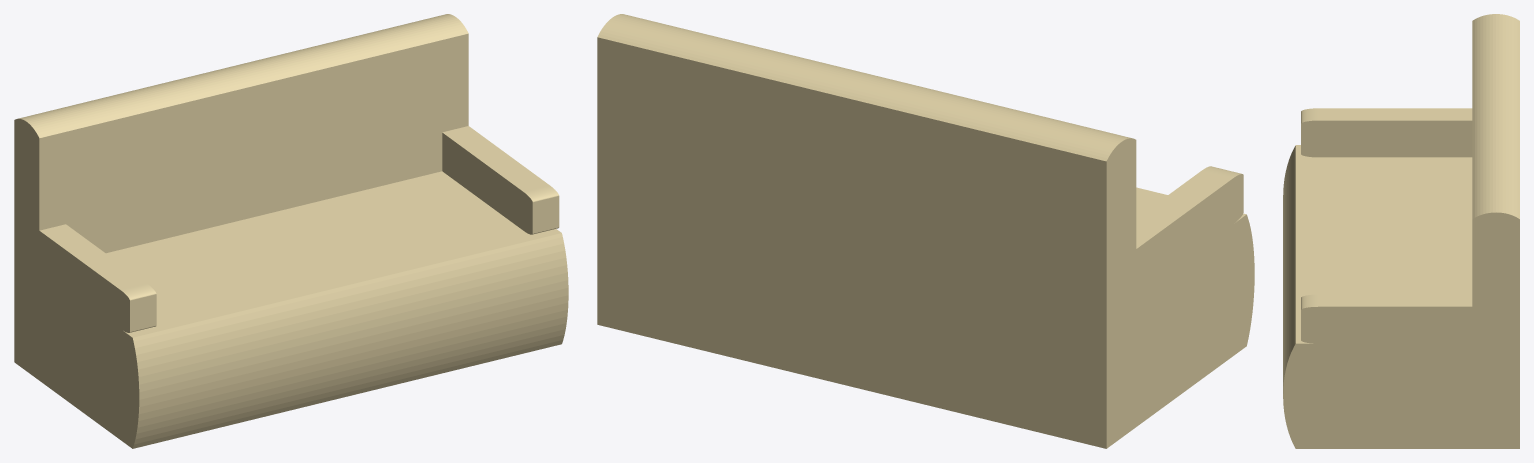
The model's file is Kursi.fbx.
3 renders of one model, left to right at view 1: azimuth 30°, elevation 25°; view 2: azimuth 150°, elevation 25°; view 3: azimuth 270°, elevation 25°, orthographic. The views are drawn at different scales.
Parts seen in each view (by area): view 1: Kursi; view 2: Kursi; view 3: Kursi.
Part boxes in pixels (x1=…): Kursi: x1=14, y1=14, x2=568, y2=448; Kursi: x1=597, y1=14, x2=1254, y2=448; Kursi: x1=1283, y1=14, x2=1519, y2=448.
Bounding box in the file's own units: 1841 × 1023 × 928.
